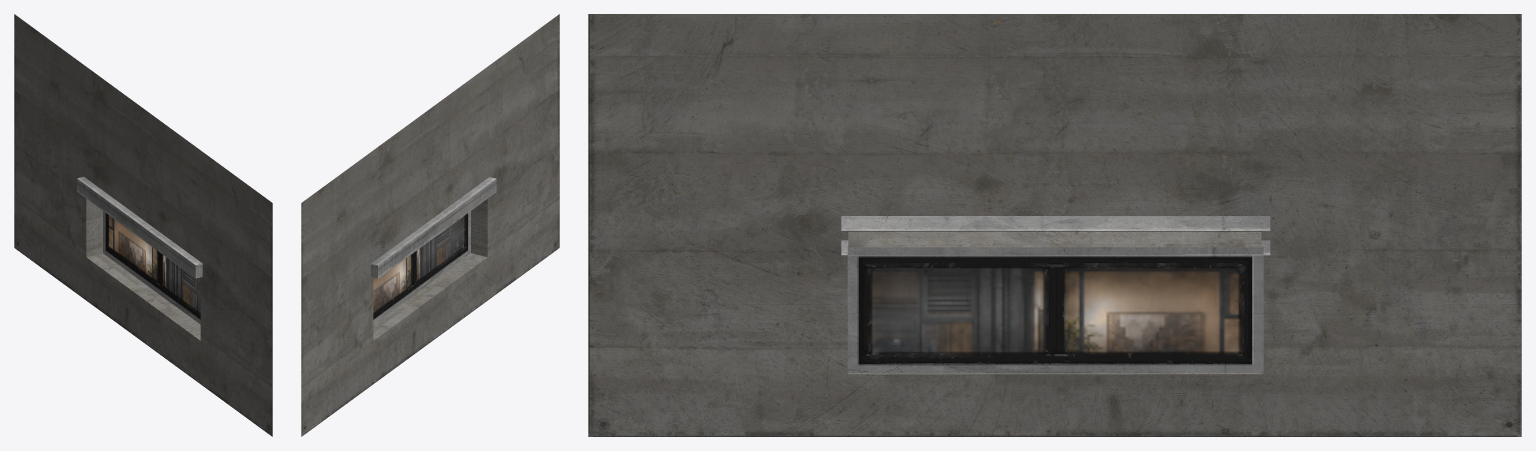
Rendered from CP_Windows_B_4x2m_01.fbx.
3 views of the same model, side by side, from view 1: azimuth 30°, elevation 25°; view 2: azimuth 150°, elevation 25°; view 3: azimuth 270°, elevation 25° (orthographic). The views are drawn at different scales.
Visible parts, largest first — view 1: CP_Windows_B_4x2m_01; view 2: CP_Windows_B_4x2m_01; view 3: CP_Windows_B_4x2m_01.
Part boxes in pixels (<box>): CP_Windows_B_4x2m_01: <box>14,14,272,436</box>; CP_Windows_B_4x2m_01: <box>301,14,559,436</box>; CP_Windows_B_4x2m_01: <box>588,14,1521,436</box>.
Size of the model in its own units: 21.8 by 200 by 400.
